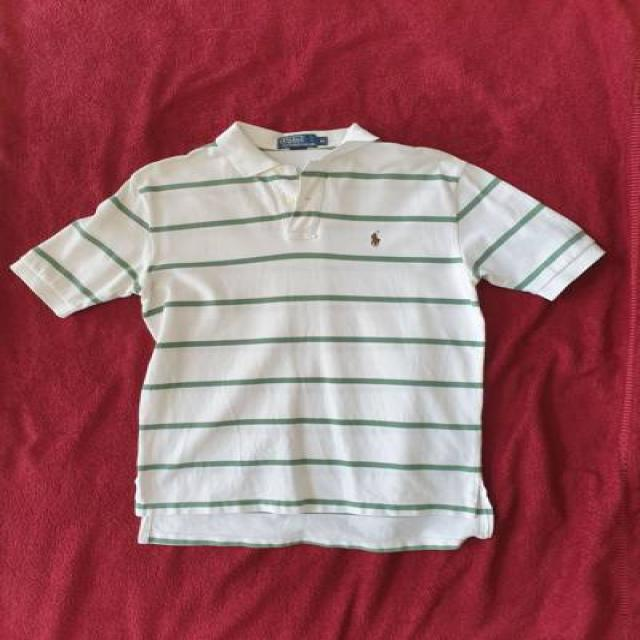Clothes -Biodegradable-: (12, 120, 611, 551)
